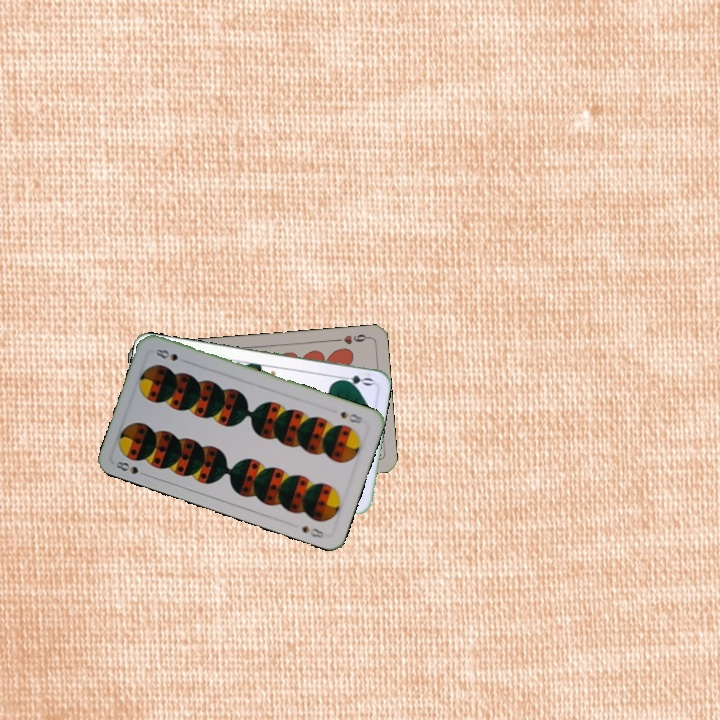GO: (334, 371, 375, 389)
H9: (331, 330, 371, 347)
S8: (112, 457, 150, 479), (336, 407, 366, 426)
